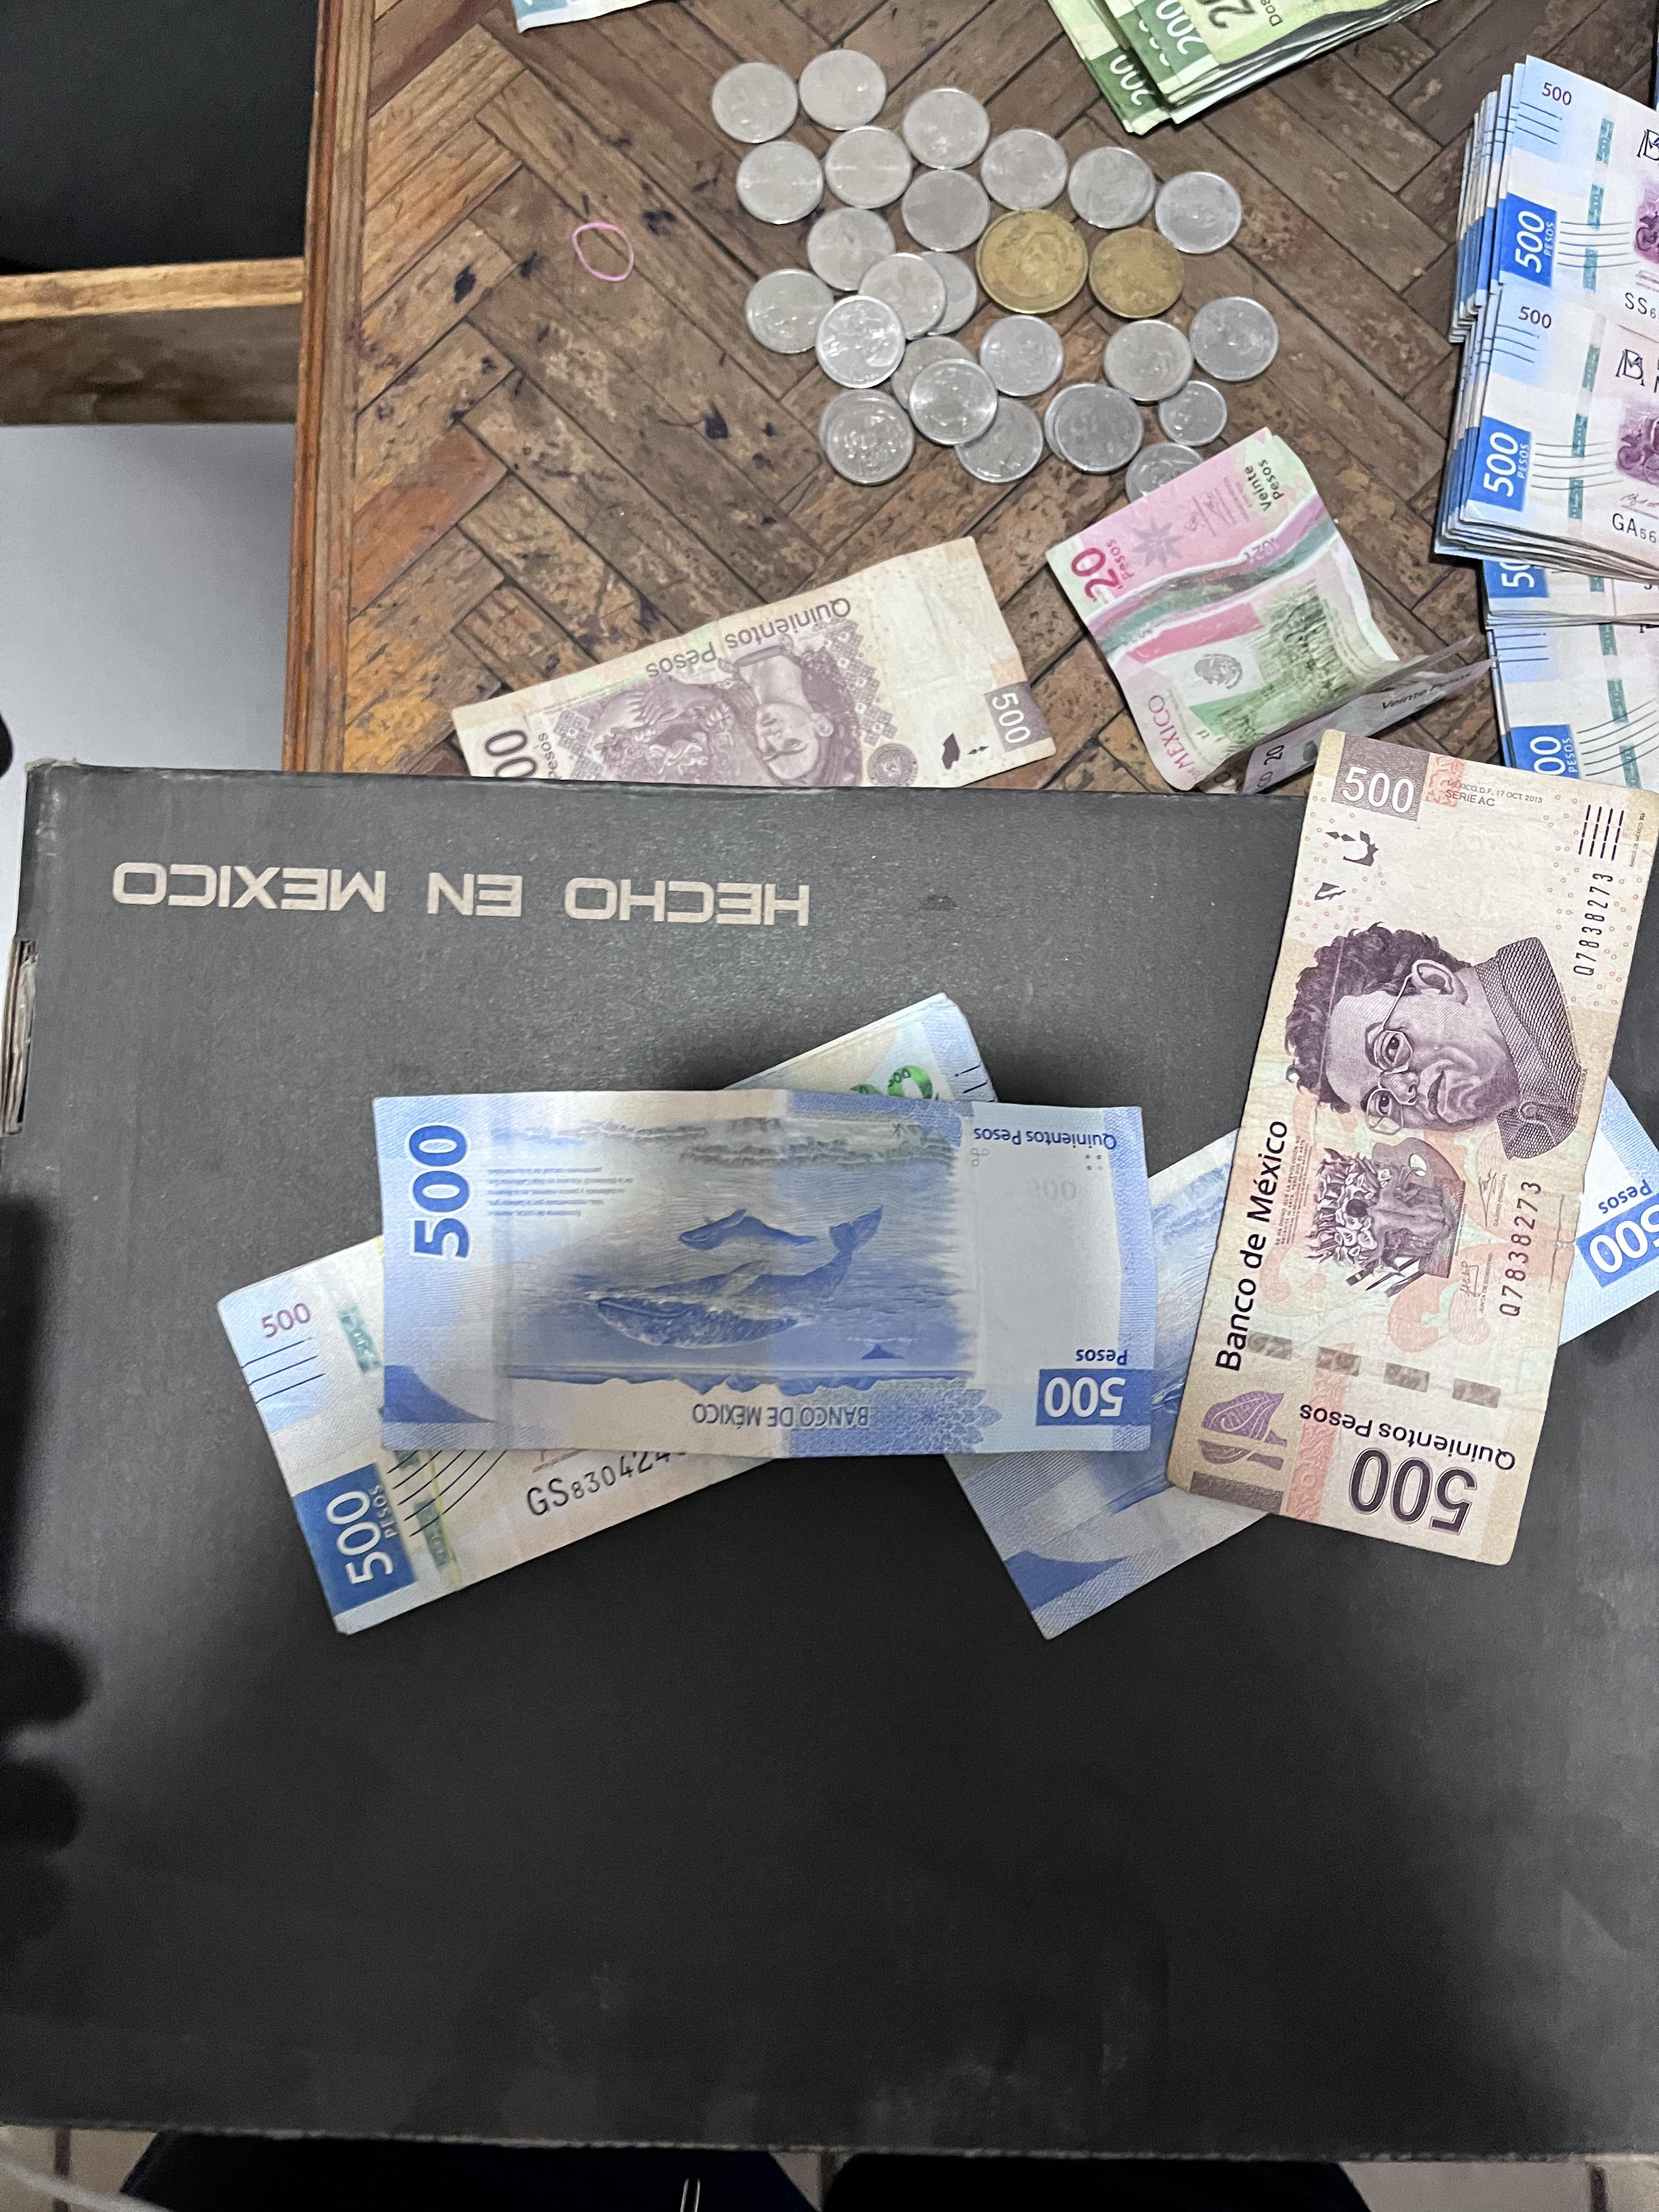20: (1056, 420, 1446, 789)
500: (1175, 705, 1659, 1573), (376, 543, 1096, 833)
500 nuevo: (122, 993, 1175, 1642), (328, 1059, 1190, 1477), (1413, 38, 1659, 319), (1432, 324, 1659, 559), (1459, 583, 1659, 759)
